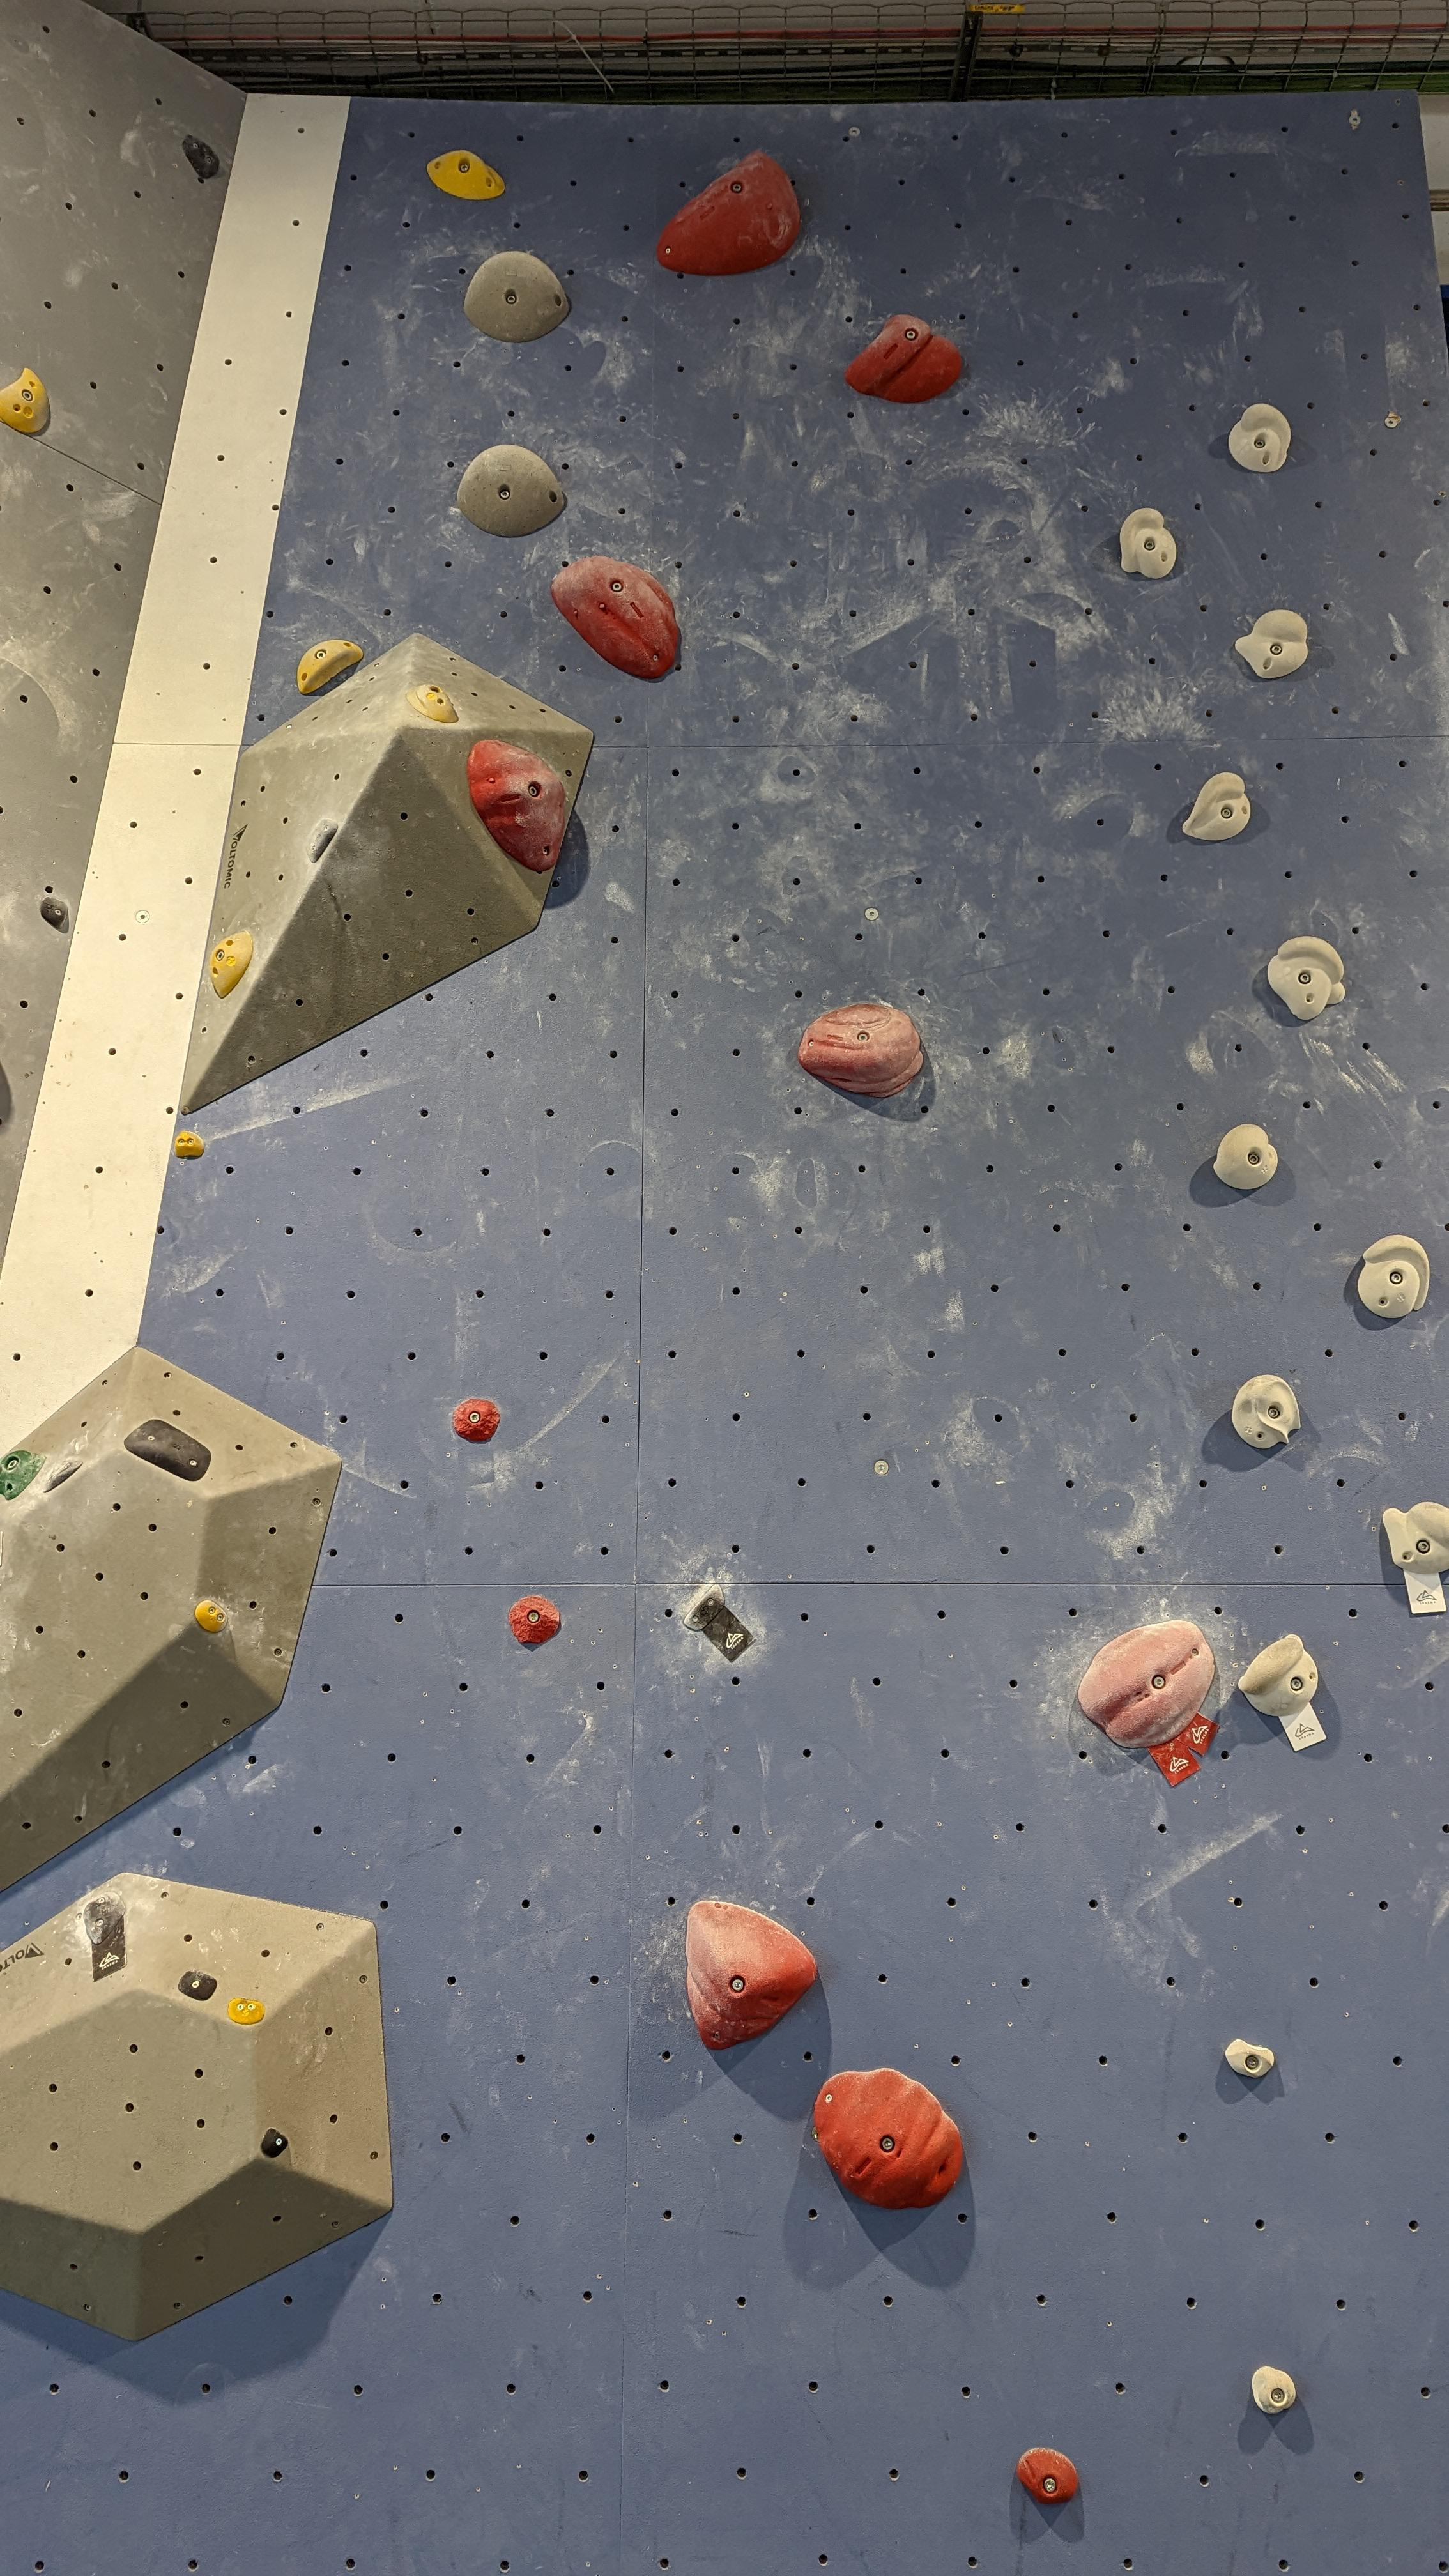hold: (814, 2068, 962, 2208), (686, 1900, 817, 2051), (1077, 1619, 1215, 1750), (656, 150, 800, 276), (550, 556, 681, 679), (467, 740, 566, 870), (798, 1001, 924, 1097), (846, 315, 962, 403), (456, 444, 566, 538), (464, 251, 568, 343), (1267, 936, 1346, 1019), (1238, 1635, 1318, 1716), (1357, 1235, 1430, 1318), (124, 1419, 211, 1481), (1231, 1373, 1300, 1449), (1235, 609, 1309, 678), (1182, 771, 1251, 840), (1382, 1502, 1449, 1573), (1228, 403, 1290, 472), (1214, 1123, 1277, 1189), (1120, 508, 1177, 579), (426, 150, 506, 200), (297, 639, 364, 694), (1017, 2447, 1079, 2505), (0, 366, 50, 433), (209, 931, 253, 998), (508, 1594, 561, 1644), (83, 1891, 126, 1944), (451, 1398, 501, 1442), (1251, 2365, 1295, 2413), (683, 1583, 725, 1629), (407, 685, 458, 722), (1224, 2040, 1274, 2077), (182, 134, 219, 179), (304, 817, 338, 863), (42, 1461, 83, 1491), (179, 1971, 218, 2001), (195, 1601, 228, 1631), (228, 1997, 265, 2024), (41, 897, 67, 929), (260, 2128, 287, 2158), (175, 1131, 205, 1157)
volume: (179, 633, 593, 1115), (0, 1346, 341, 1893), (0, 1872, 393, 2341)
